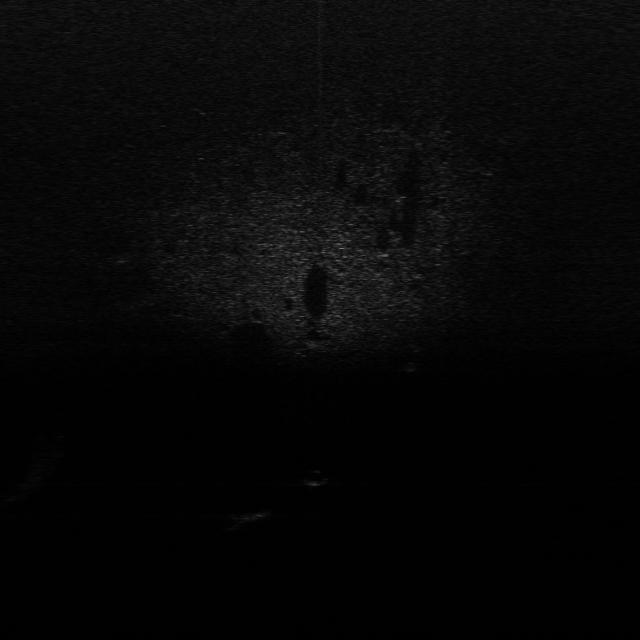ball: (298, 467, 331, 490)
square cage: (228, 502, 274, 524)
tyre: (400, 335, 430, 373)
